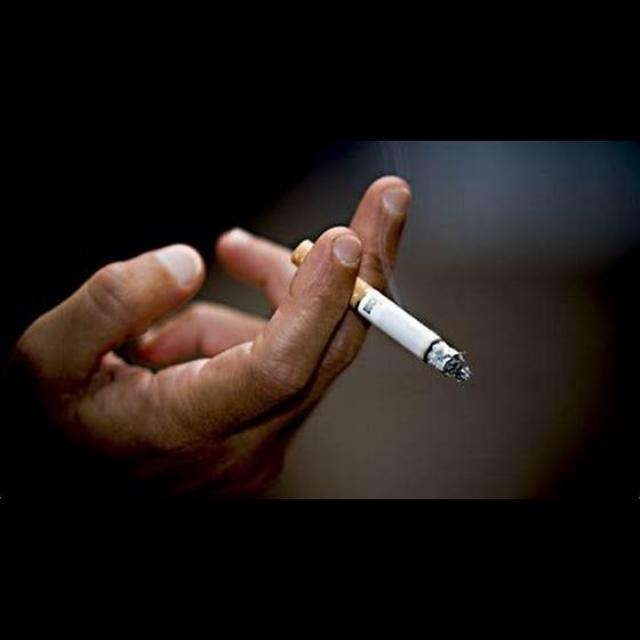rokok: (338, 236, 488, 384)
